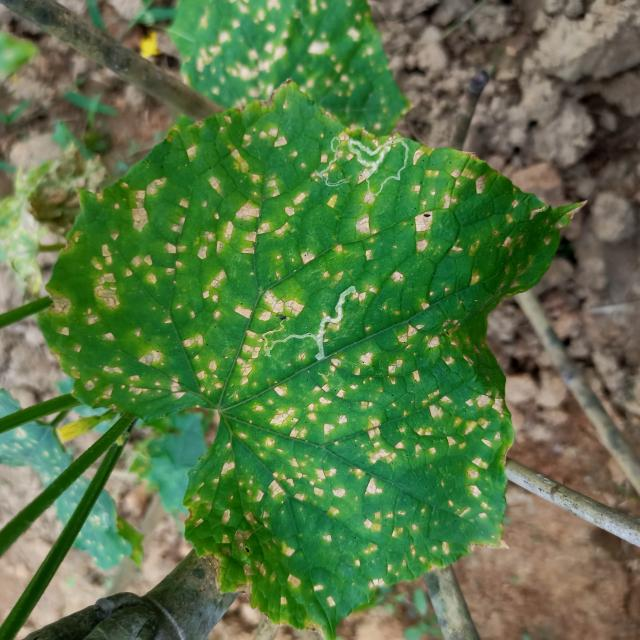disease_cucumber: (54, 129, 523, 588)
